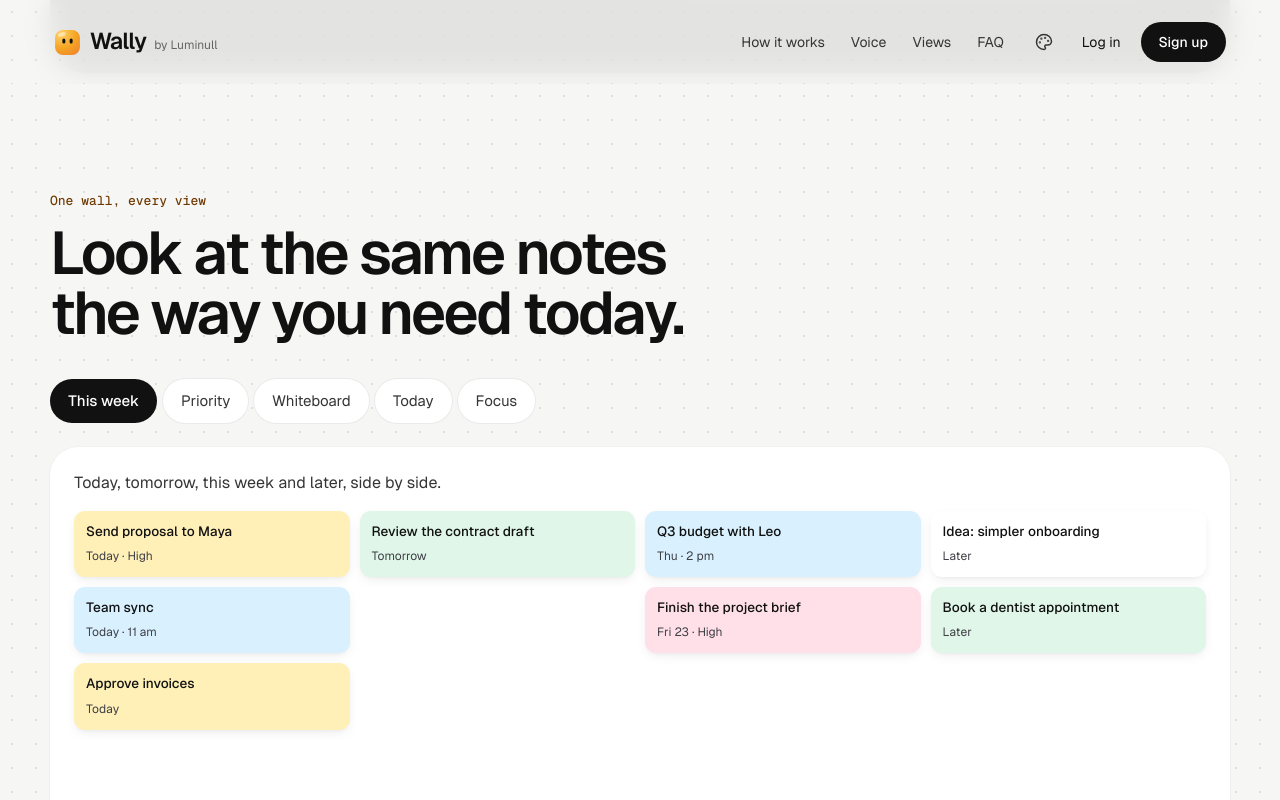
it: switches the example views without navigating away from the landing page
(page scrolled)
Press the mouse on the tab "Priority" at (206,401), box [163,379,248,423]
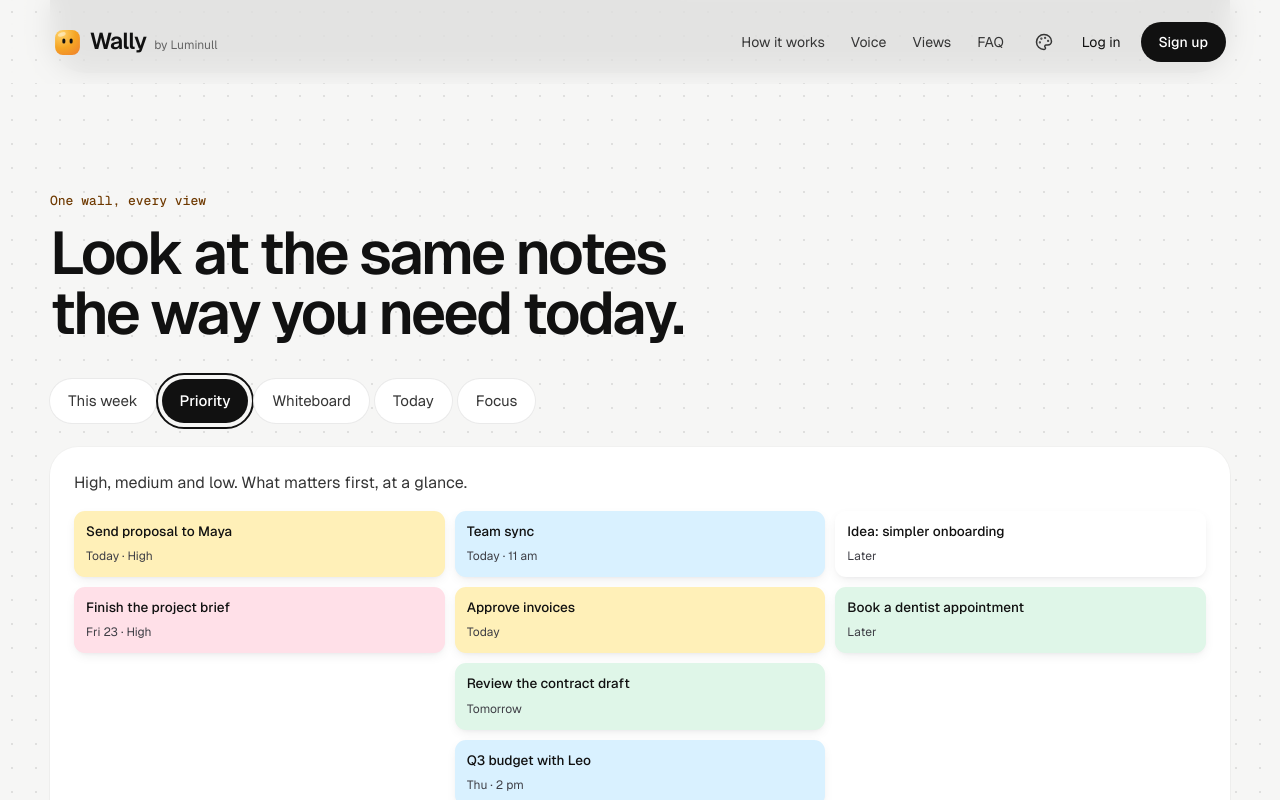
Expected: the panel shows "High, medium and low.", [74,473,467,492]
Press the mouse on the tab "Focus" at (497,401), box [458,379,535,423]
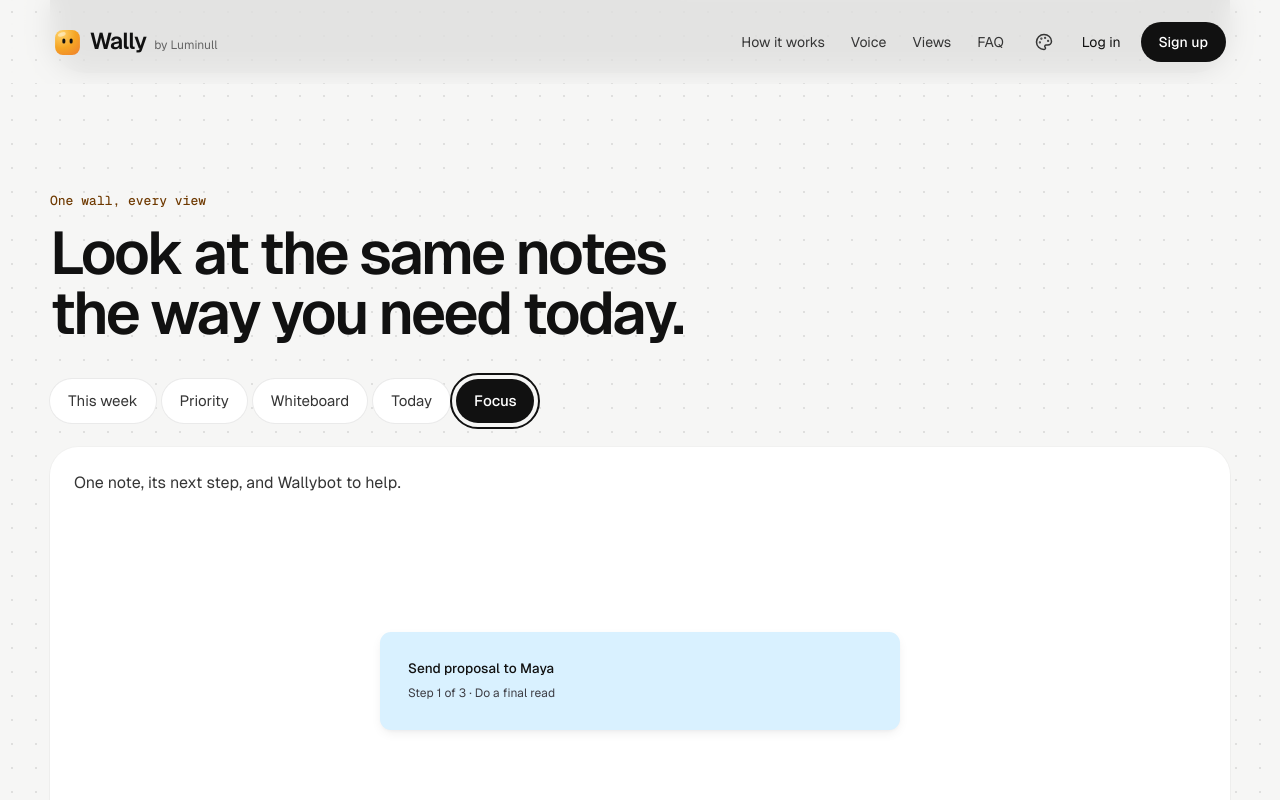
Expected: the text "Step 1 of 3 · Do a final read" is shown, [408,686,555,700]
